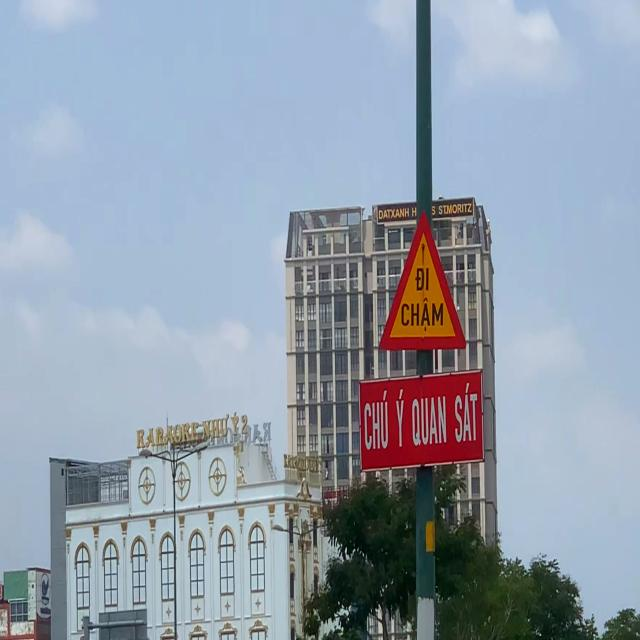Nguy hiem: (377, 209, 468, 351)
